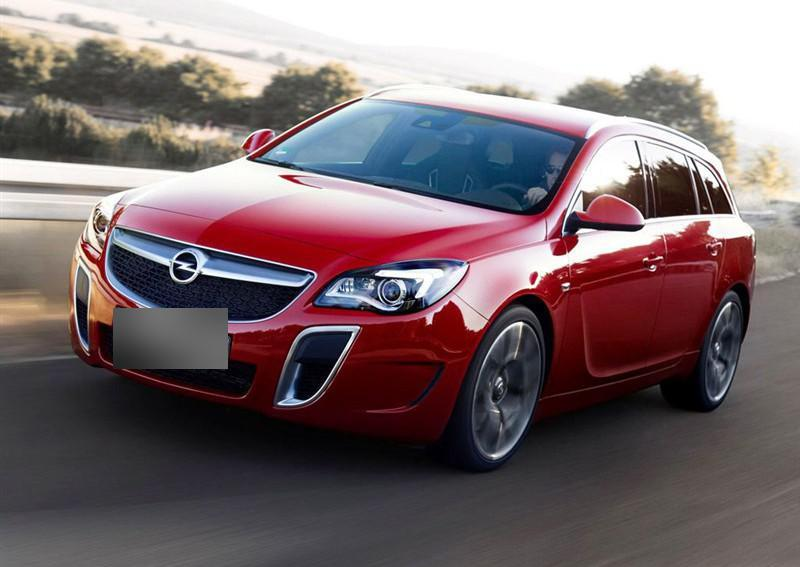Wagon: (68, 80, 758, 473)
